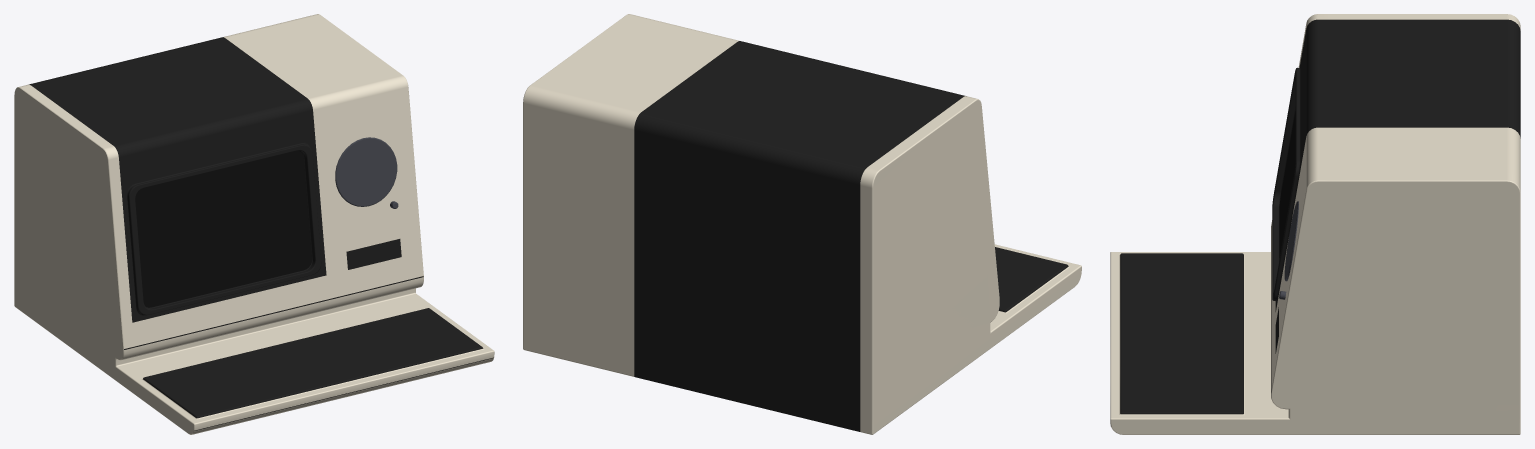
Rendered from computer.gltf.
The picture shows the model from 3 angles, left to right: view 1: azimuth 30°, elevation 25°; view 2: azimuth 150°, elevation 25°; view 3: azimuth 270°, elevation 25°; orthographic projection. The views are drawn at different scales.
Parts seen in each view (by area): view 1: Old pc; view 2: Old pc; view 3: Old pc.
Boxes of the visible parts, box(x1,y1,x2,y2) form: Old pc: box(14, 14, 494, 434); Old pc: box(523, 14, 1081, 434); Old pc: box(1110, 14, 1520, 434).
Bounding box in the file's own units: 0.9931 × 0.7047 × 1.03.
